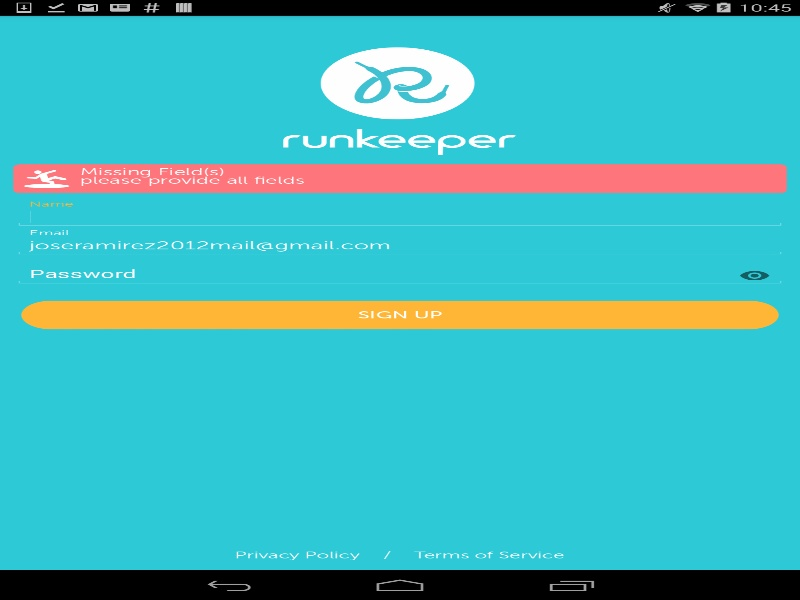Button: (21, 300, 778, 329), (722, 263, 786, 288)
Input: (13, 206, 786, 228), (13, 263, 786, 285), (13, 235, 786, 256)
